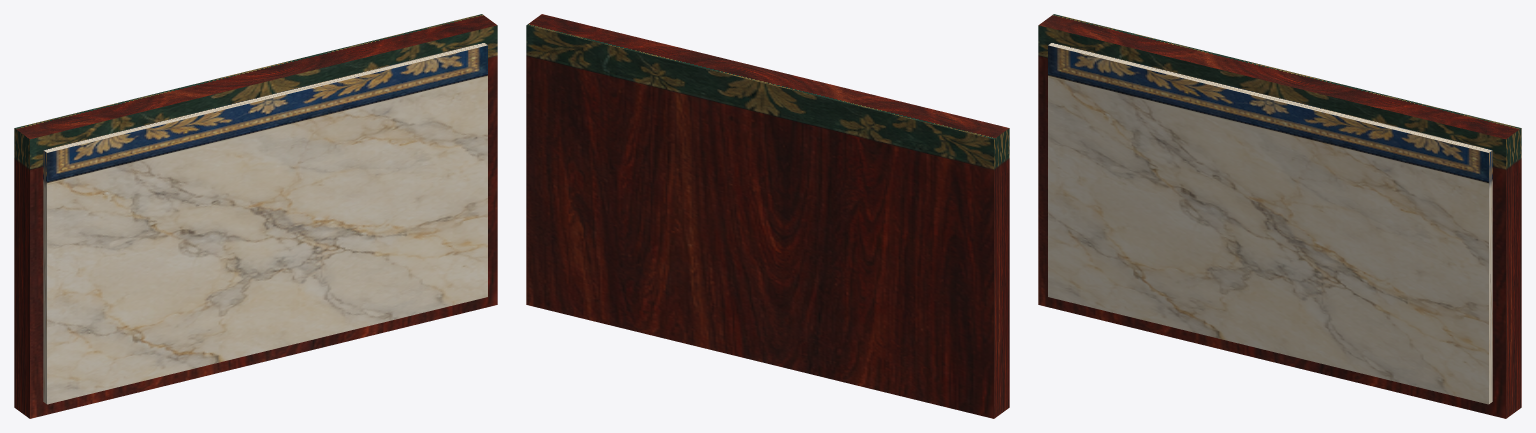
Rendered from monitor.gltf.
3 renders of one model, left to right at view 1: azimuth 30°, elevation 25°; view 2: azimuth 150°, elevation 25°; view 3: azimuth 330°, elevation 25°, orthographic.
Parts seen in each view (by area): view 1: kit:0:furniture:blue:, kit:0:furniture:bronze:; view 2: kit:0:furniture:bronze:; view 3: kit:0:furniture:blue:, kit:0:furniture:bronze:.
Part boxes in pixels (x1=…): kit:0:furniture:blue:: x1=43, y1=42, x2=487, y2=404; kit:0:furniture:bronze:: x1=14, y1=14, x2=497, y2=418; kit:0:furniture:bronze:: x1=526, y1=14, x2=1009, y2=418; kit:0:furniture:blue:: x1=1048, y1=42, x2=1492, y2=404; kit:0:furniture:bronze:: x1=1038, y1=14, x2=1521, y2=418.
Bounding box in the file's own units: 1.4 × 0.8 × 0.1.
Materials: 2 (2 with a texture image).
